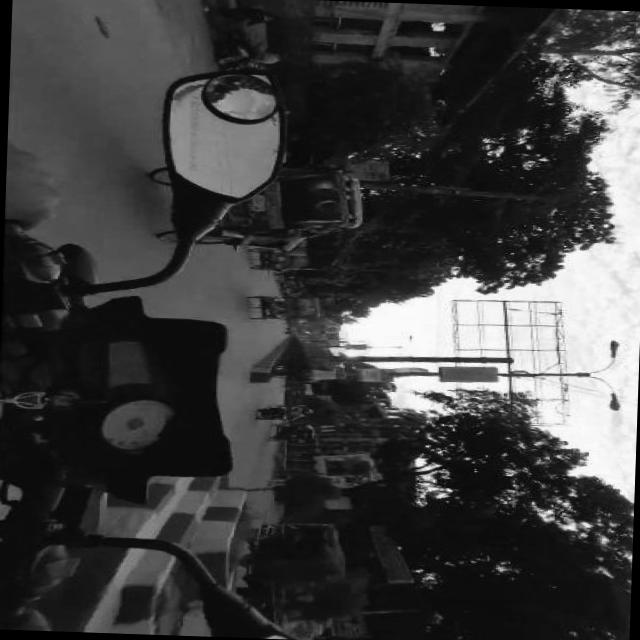motorcycle: (0, 60, 294, 625), (150, 159, 363, 251), (246, 516, 342, 586), (248, 292, 320, 320), (216, 40, 262, 70), (250, 248, 306, 272), (256, 403, 314, 422), (268, 421, 316, 442)
